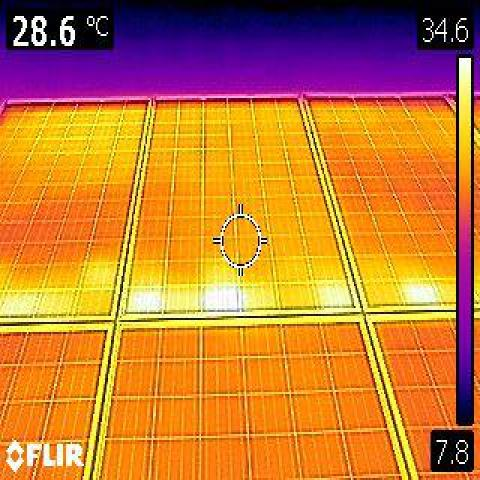fault: (129, 286, 160, 313), (205, 287, 238, 312), (128, 287, 162, 311), (406, 283, 435, 308), (404, 282, 436, 304), (320, 286, 351, 308)
